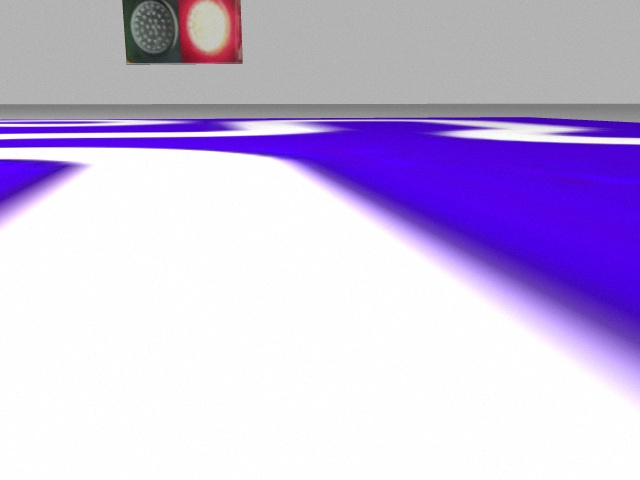red: (178, 1, 243, 65)
